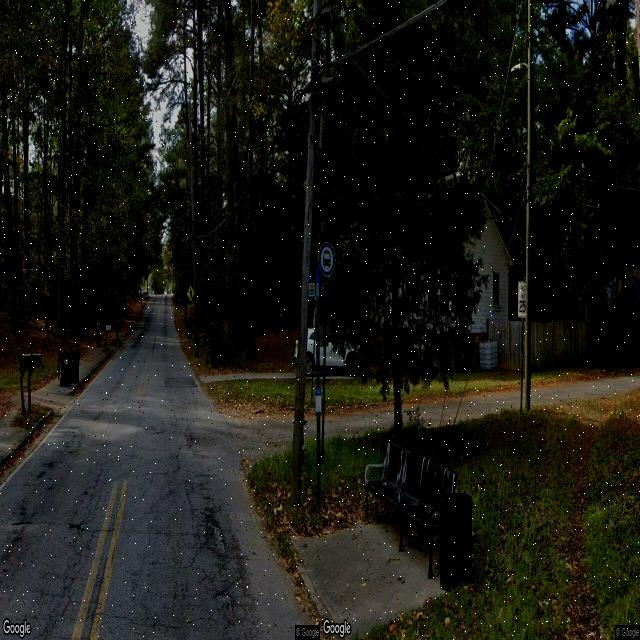seating: (364, 437, 459, 574)
trash_can: (438, 486, 474, 594)
